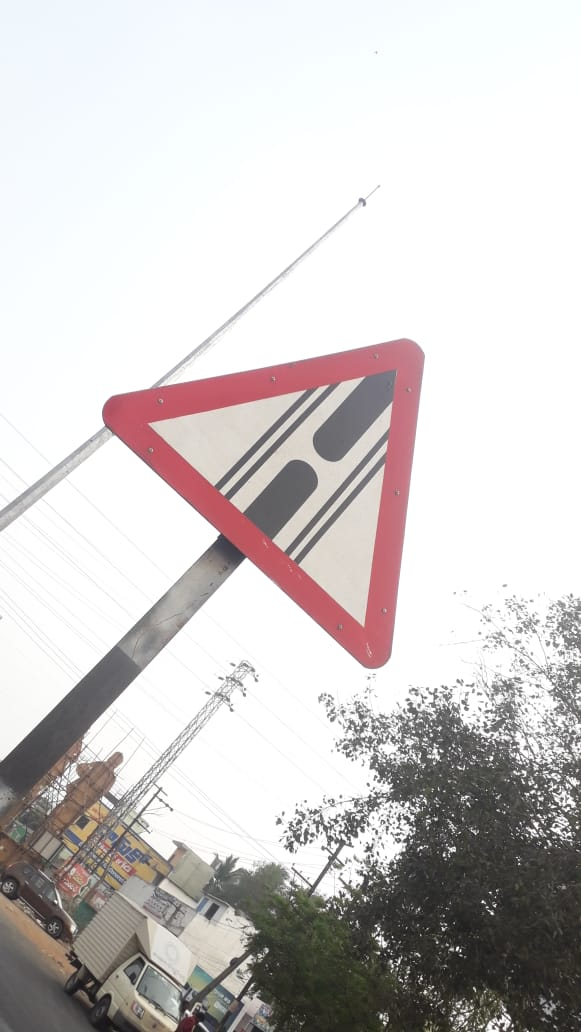highway go straight: (102, 275, 445, 685)
